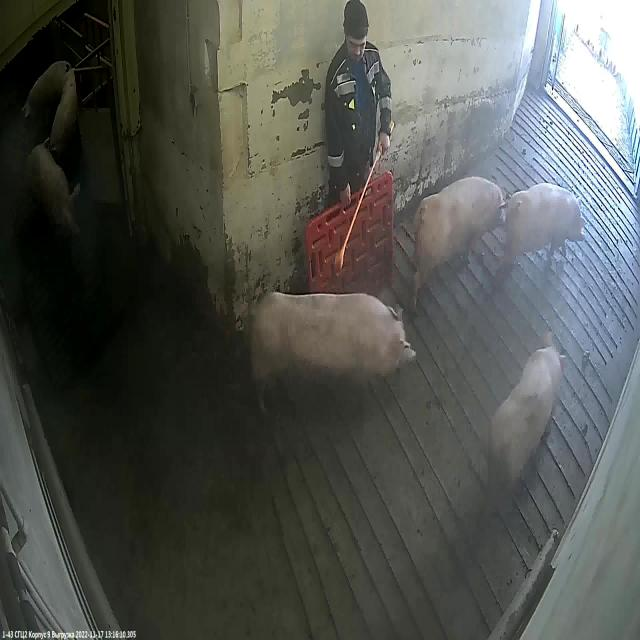pig: (250, 292, 415, 413), (490, 346, 564, 503), (416, 178, 506, 299), (508, 183, 584, 264), (30, 144, 80, 234), (46, 70, 78, 159), (24, 61, 70, 117)
